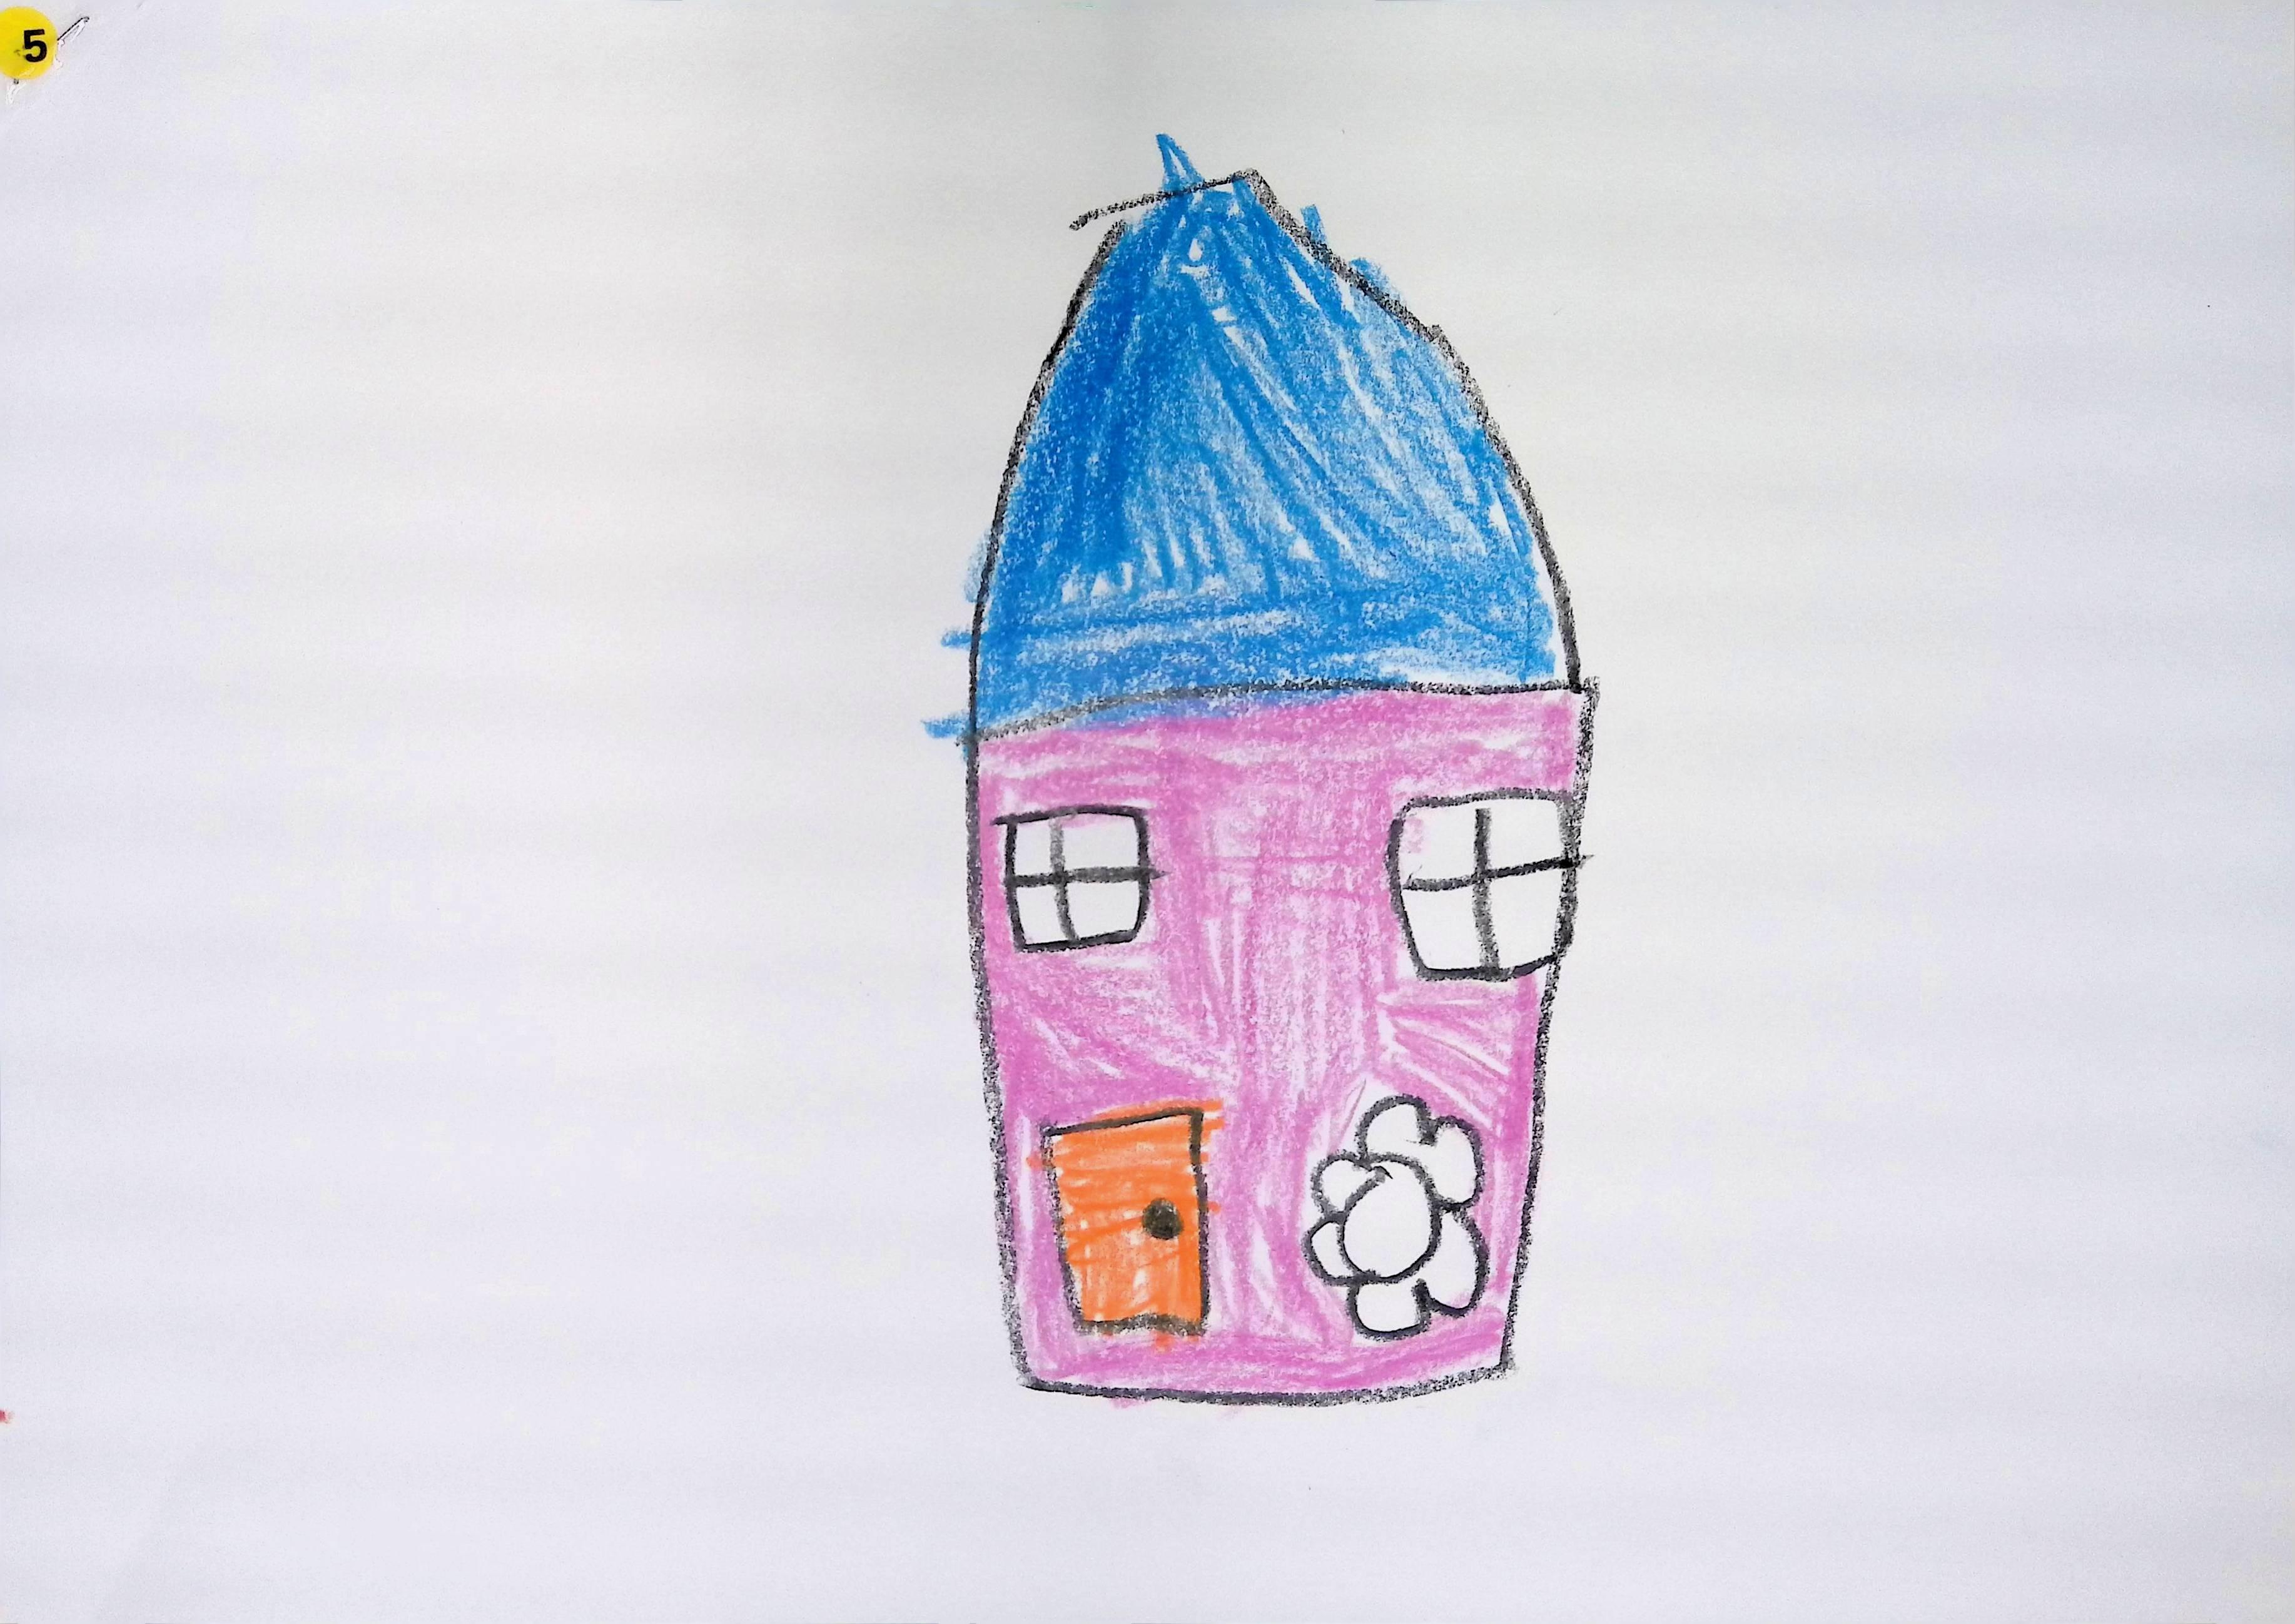door: (1042, 1109, 1209, 1336)
house: (965, 135, 1594, 1403)
roof: (974, 135, 1573, 731)
wall: (972, 677, 1594, 1401)
window: (1392, 793, 1578, 977), (996, 807, 1151, 951)
